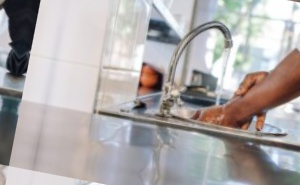washing hand: (148, 0, 299, 140)
